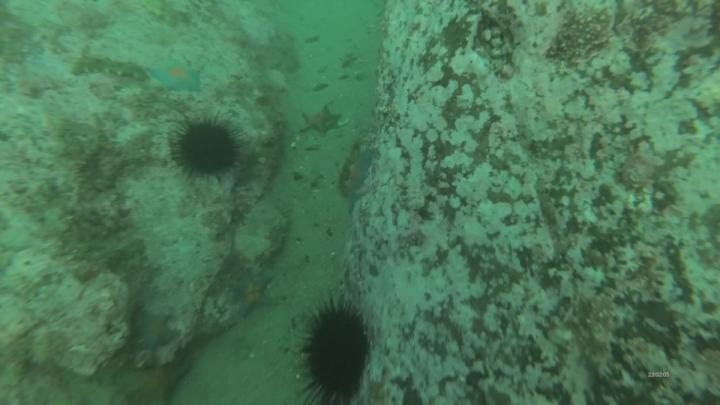echinus: (308, 310, 367, 399), (182, 127, 237, 173)
holothurian: (71, 57, 149, 84), (143, 1, 179, 26)
starfish: (230, 274, 274, 314), (151, 58, 199, 92), (136, 315, 174, 348), (348, 149, 373, 194), (302, 106, 335, 137)
